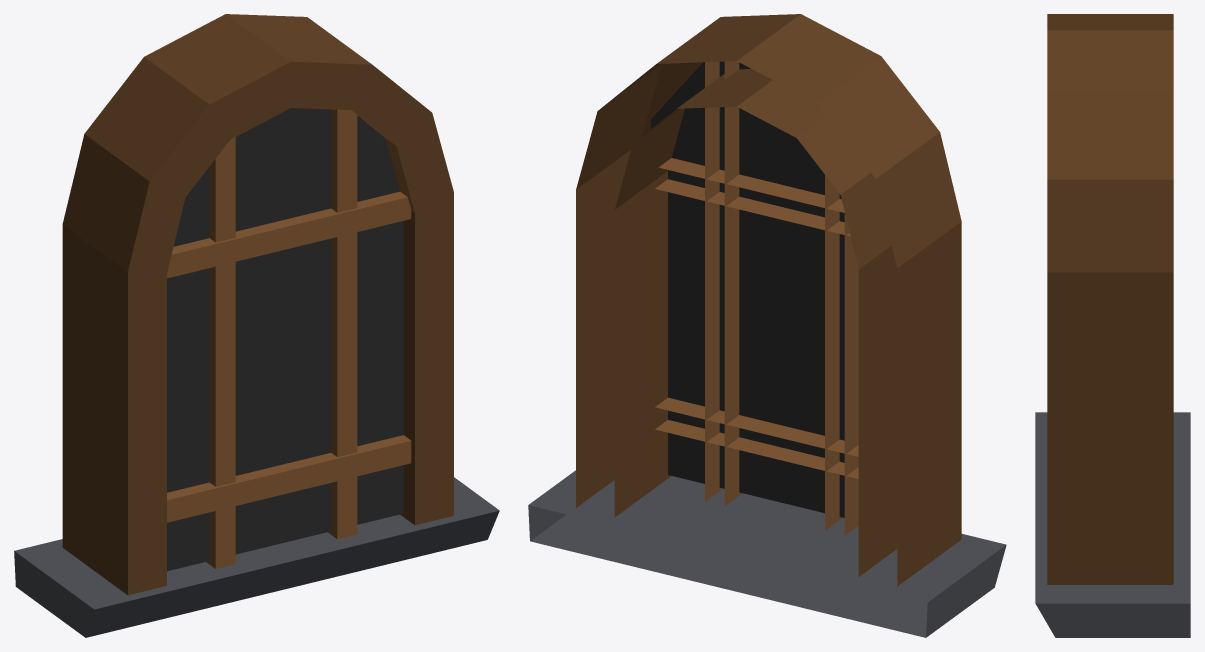
File: Window-2.glb
3 renders of one model, left to right at view 1: azimuth 30°, elevation 25°; view 2: azimuth 150°, elevation 25°; view 3: azimuth 270°, elevation 25°, orthographic. The views are drawn at different scales.
Parts seen in each view (by area): view 1: Window-2; view 2: Window-2; view 3: Window-2.
Boxes of the visible parts, x1,y1,x2,y2 form: Window-2: [14, 14, 499, 637]; Window-2: [528, 14, 1006, 637]; Window-2: [1035, 14, 1190, 637].
Size of the model in its own units: 0.5257 by 0.6568 by 0.1801.
